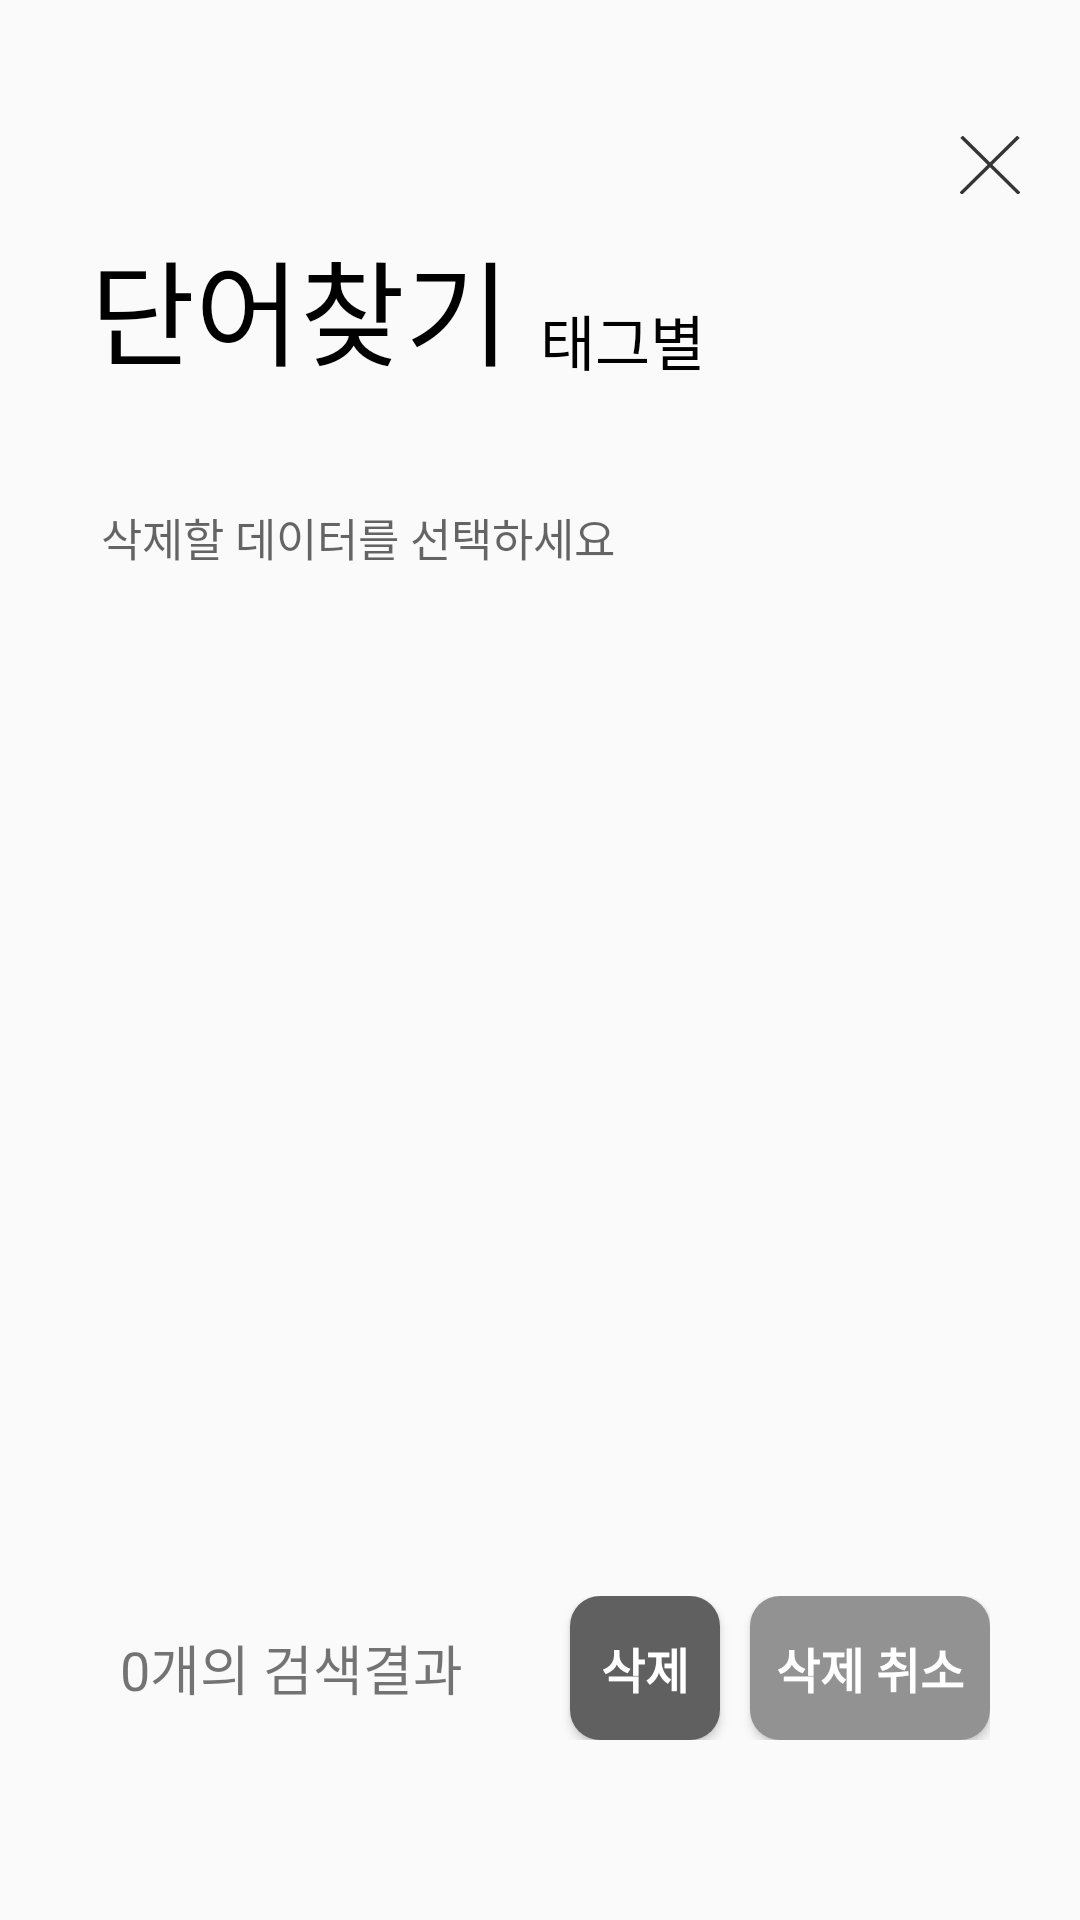

Screen size 1080w x 1920h. Icon name, then its box in pixels as (x1, y1, x2, y2):
close: (960, 136, 1020, 194)
